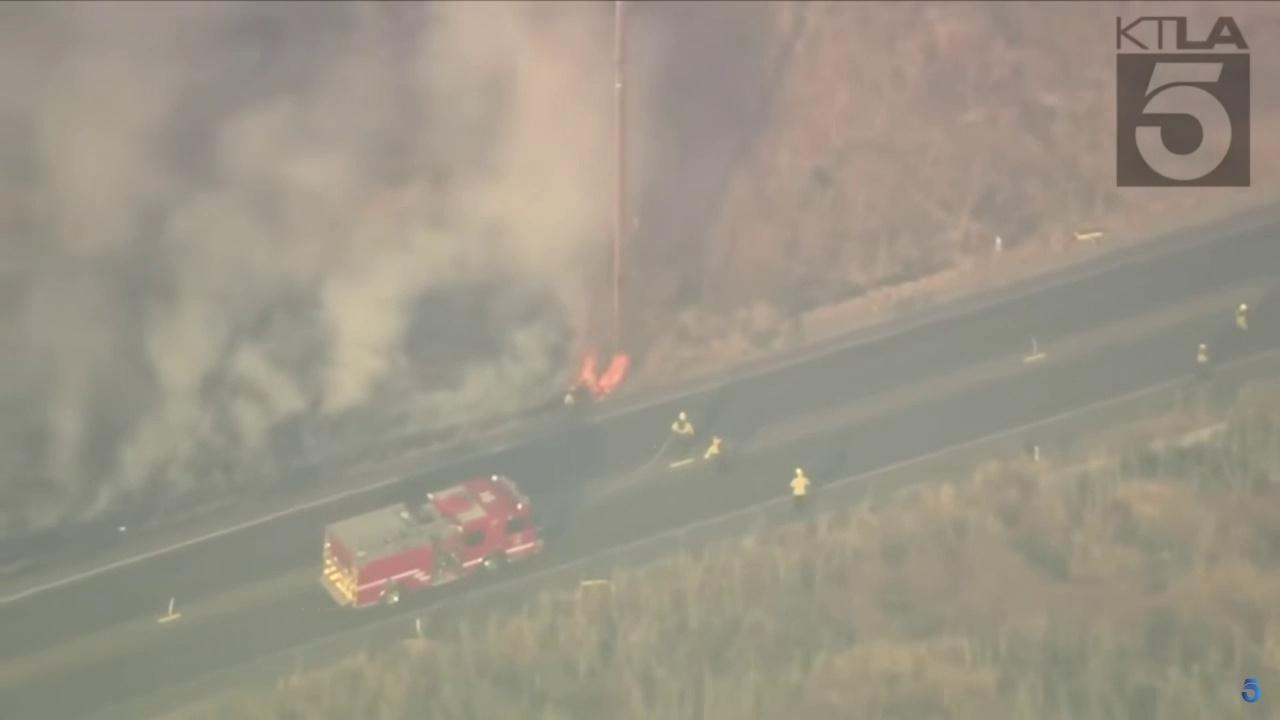fire: (576, 351, 630, 403)
smoke: (0, 0, 612, 529)
